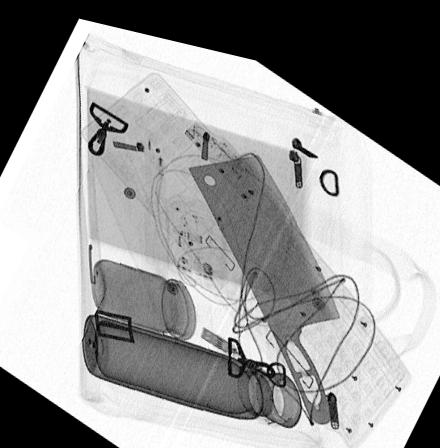Knife: (186, 140, 343, 411)
